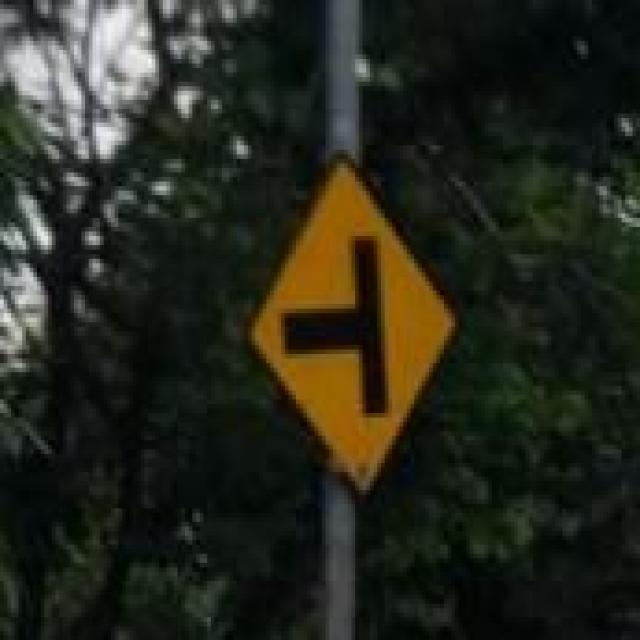traffic sign: (256, 159, 452, 486)
